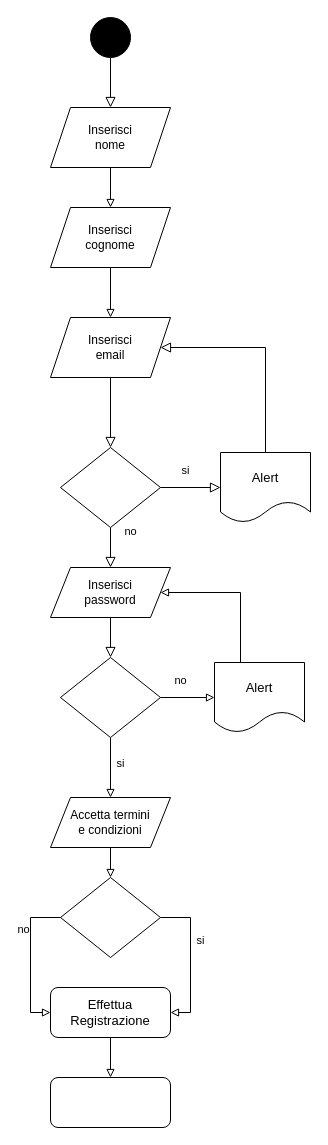
This 328x1145 diagram has some shape labels left out. Here are the shapes that lost their labels. From the top down, the box of each, then its label:
(60, 446, 160, 528): email esistente?
(60, 656, 160, 738): password conforme?
(60, 876, 160, 958): iscrizione newsletter?
(50, 1076, 170, 1128): Home
